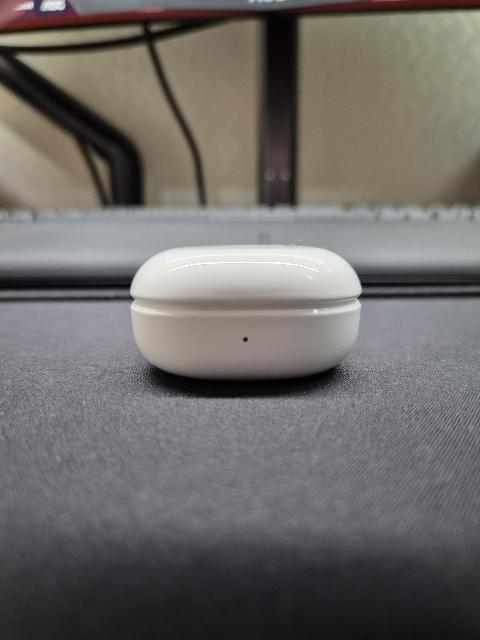earphone_case: (130, 244, 362, 380)
